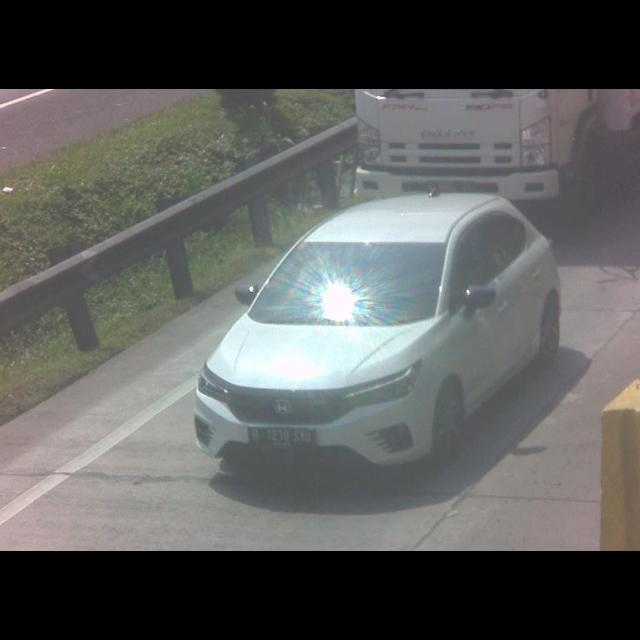plate: (247, 426, 316, 452)
